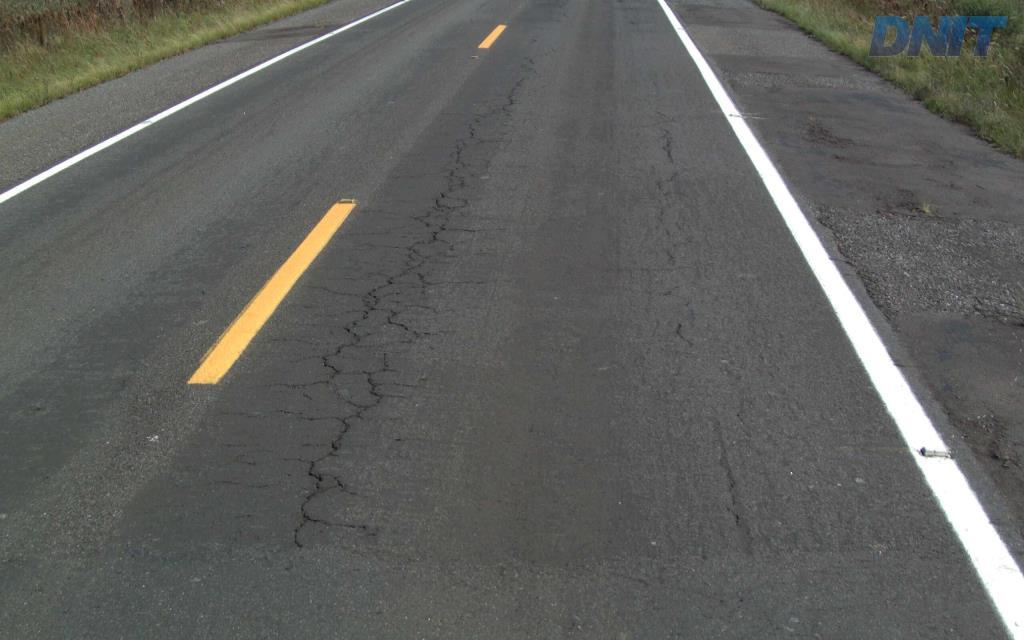crack: (282, 370, 385, 550), (309, 276, 395, 386)
